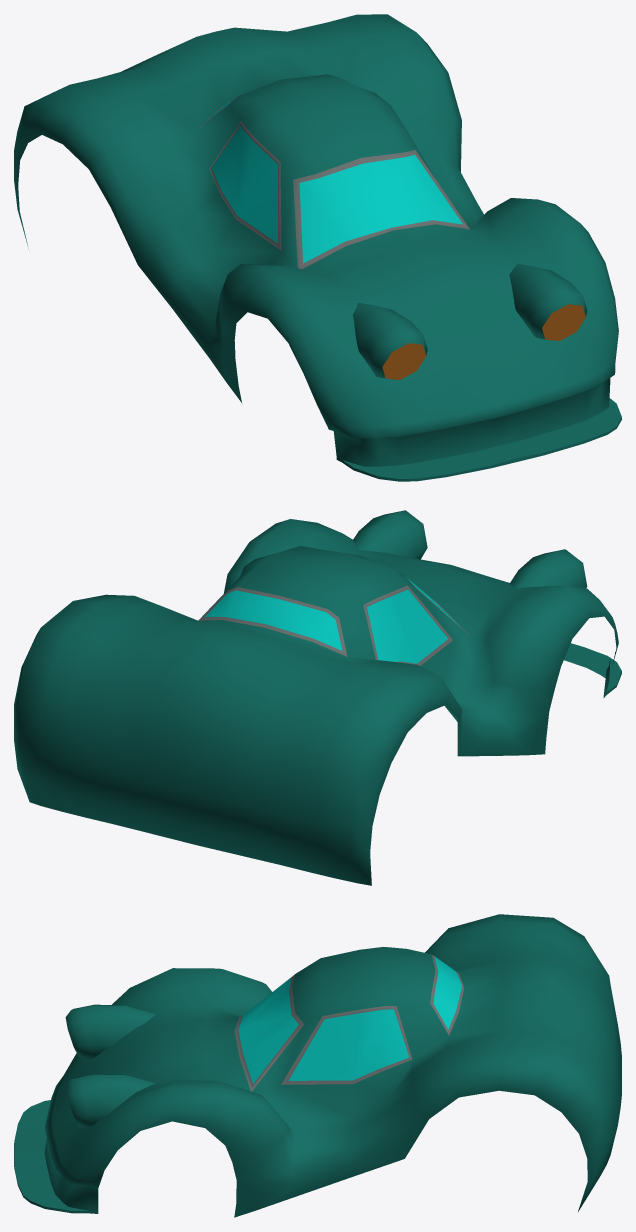
The model's file is LuxCasing02C02.gltf.
3 views of the same model, one above another, from view 1: azimuth 30°, elevation 25°; view 2: azimuth 150°, elevation 25°; view 3: azimuth 270°, elevation 25° (orthographic). The views are drawn at different scales.
Parts seen in each view (by area): view 1: LuxCasing02C02; view 2: LuxCasing02C02; view 3: LuxCasing02C02.
Part boxes in pixels (x1,y1,x2,y2): LuxCasing02C02: (14,14,621,481); LuxCasing02C02: (14,510,621,885); LuxCasing02C02: (14,914,621,1217).
Size of the model in its own units: 0.2179 by 0.1224 by 0.3506.
